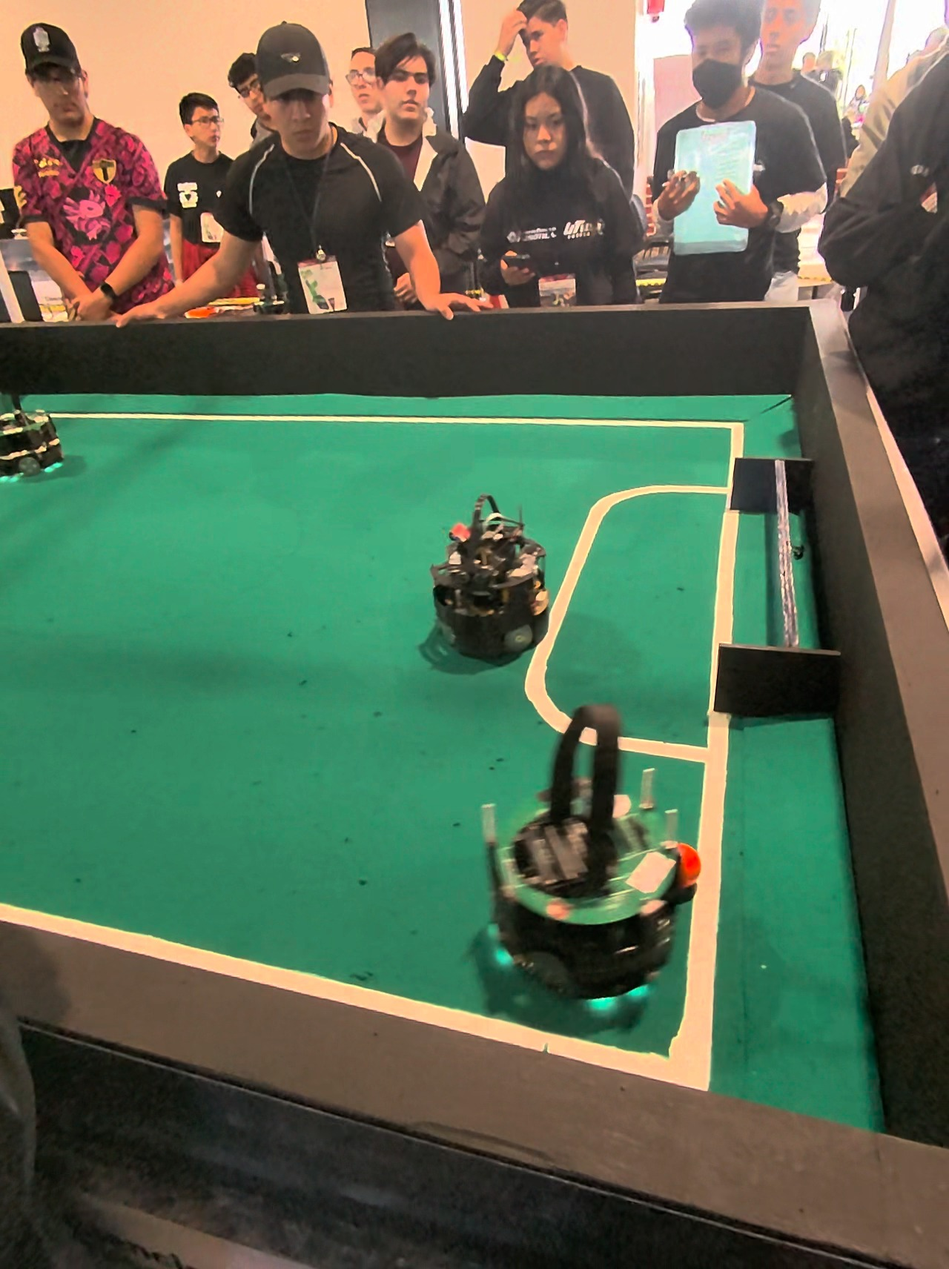Robot: (485, 693, 714, 1049), (426, 487, 554, 672), (0, 395, 75, 491)
